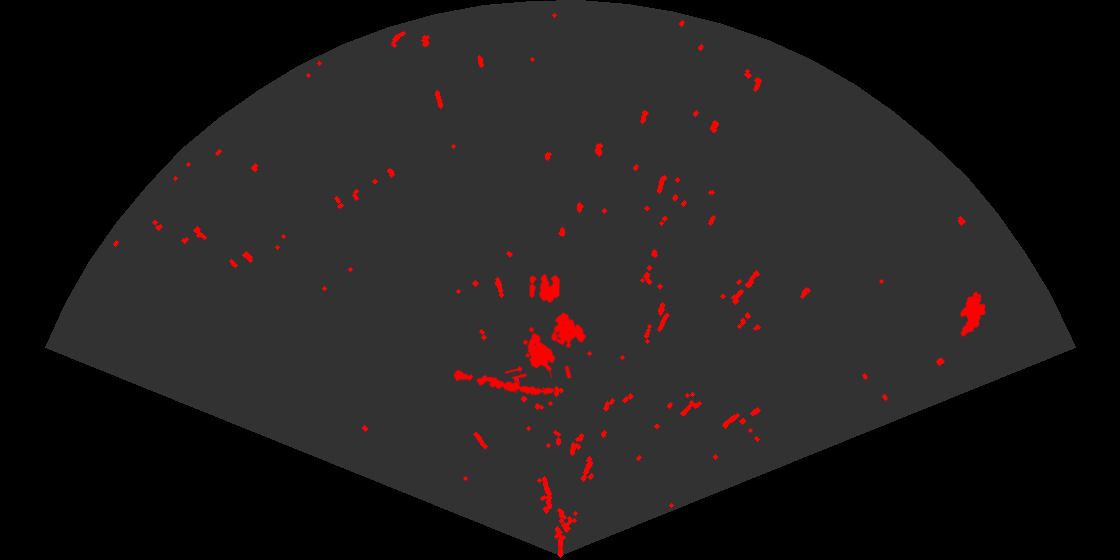AUV: (959, 290, 987, 338)
ball: (528, 272, 561, 304)
cage: (505, 311, 588, 378)
chain: (451, 368, 556, 397)
